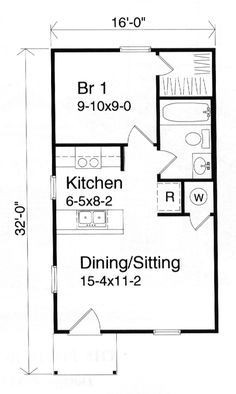door: (68, 306, 102, 329), (130, 123, 155, 147), (157, 144, 176, 173), (158, 53, 177, 76), (186, 215, 213, 231)
room: (51, 232, 220, 336), (50, 49, 156, 145), (50, 144, 160, 232), (157, 97, 216, 179)
wall: (211, 48, 220, 333), (50, 49, 57, 175), (153, 74, 161, 149), (52, 47, 120, 54), (54, 141, 127, 147), (159, 94, 212, 102), (101, 327, 156, 334), (51, 199, 57, 263), (159, 176, 215, 182), (152, 47, 216, 52), (52, 293, 59, 333), (177, 180, 185, 212), (120, 142, 127, 171), (156, 212, 187, 217), (54, 327, 68, 336), (180, 329, 219, 332)
window: (120, 44, 155, 54), (154, 325, 183, 336), (50, 262, 58, 292), (50, 177, 60, 200)
